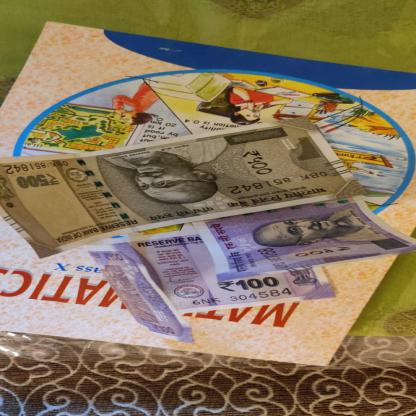New100Front: (84, 230, 338, 344), (189, 195, 415, 283)
New500Front: (0, 116, 370, 259)
